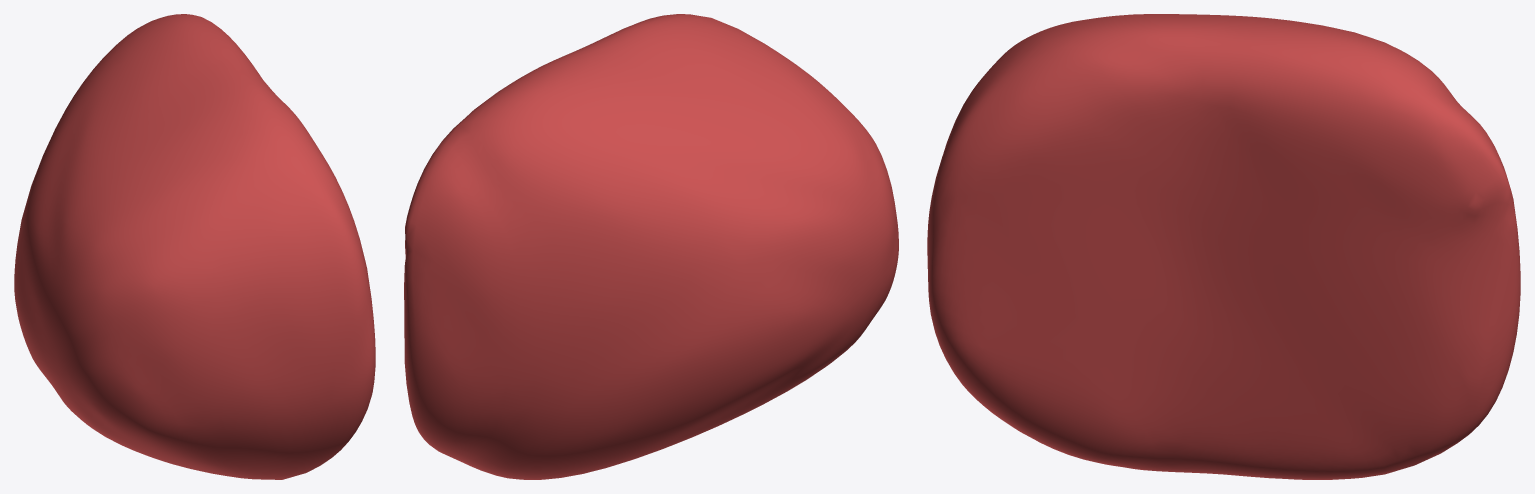
Rendered from prostate.obj.
3 renders of one model, left to right at view 1: azimuth 30°, elevation 25°; view 2: azimuth 150°, elevation 25°; view 3: azimuth 270°, elevation 25°, orthographic. The views are drawn at different scales.
Visible parts, largest first — view 1: AnyConv.com__Urogenital_Male; view 2: AnyConv.com__Urogenital_Male; view 3: AnyConv.com__Urogenital_Male.
Part boxes in pixels (x1=…): AnyConv.com__Urogenital_Male: x1=14, y1=14, x2=375, y2=479; AnyConv.com__Urogenital_Male: x1=404, y1=14, x2=898, y2=479; AnyConv.com__Urogenital_Male: x1=927, y1=14, x2=1520, y2=479.
Bounding box in the file's own units: 0.029 × 0.0356 × 0.0437.
1 material, 1 textured.
